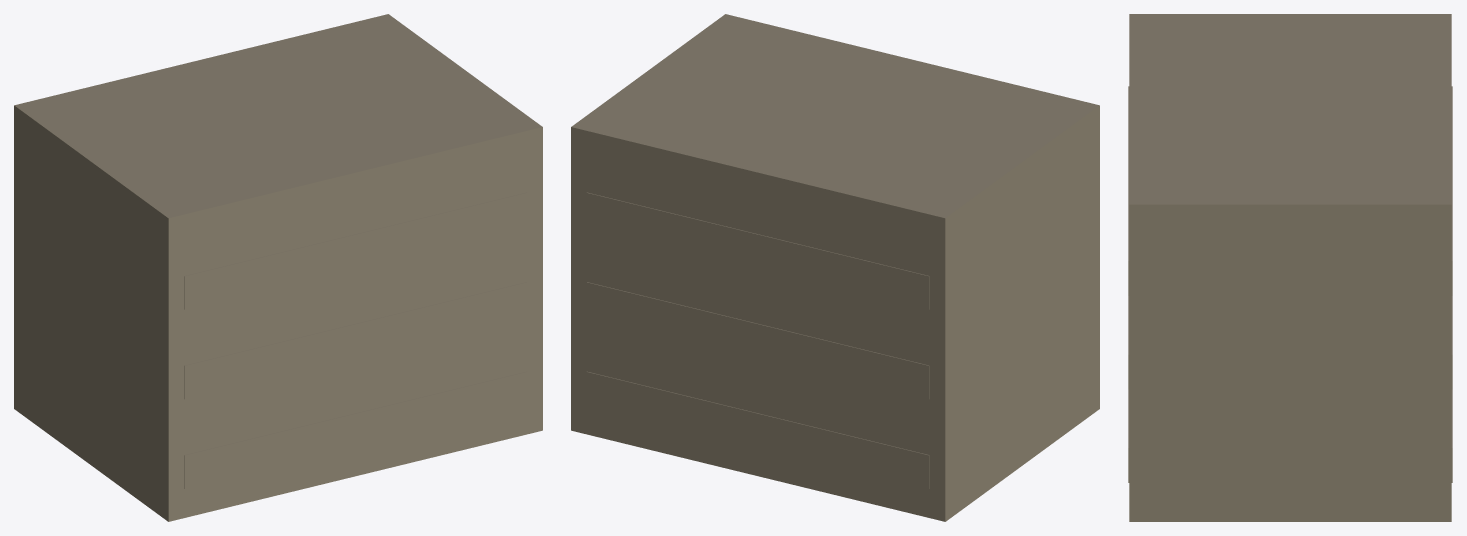
The model's file is customs-house.far-facades-v2.lod2.glb.
3 views of the same model, side by side, from view 1: azimuth 30°, elevation 25°; view 2: azimuth 150°, elevation 25°; view 3: azimuth 270°, elevation 25° (orthographic). The views are drawn at different scales.
Parts seen in each view (by area): view 1: customs-house; view 2: customs-house; view 3: customs-house.
Part boxes in pixels (<box>): customs-house: <box>14,14,542,521</box>; customs-house: <box>571,14,1099,521</box>; customs-house: <box>1128,14,1452,521</box>.
Size of the model in its own units: 14 by 10.85 by 10.06.
